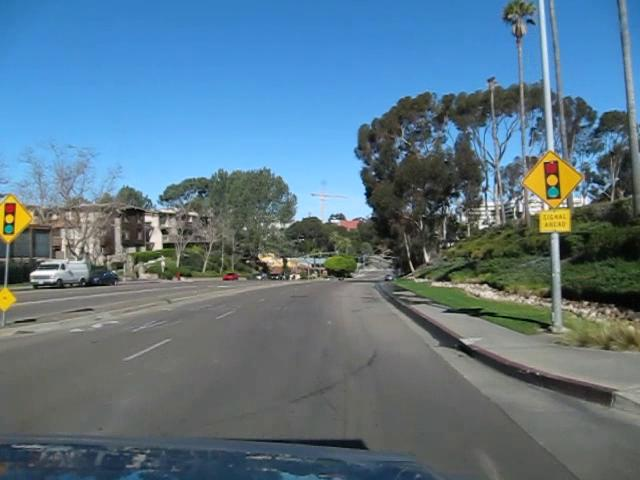signalAhead: (520, 149, 583, 210)
